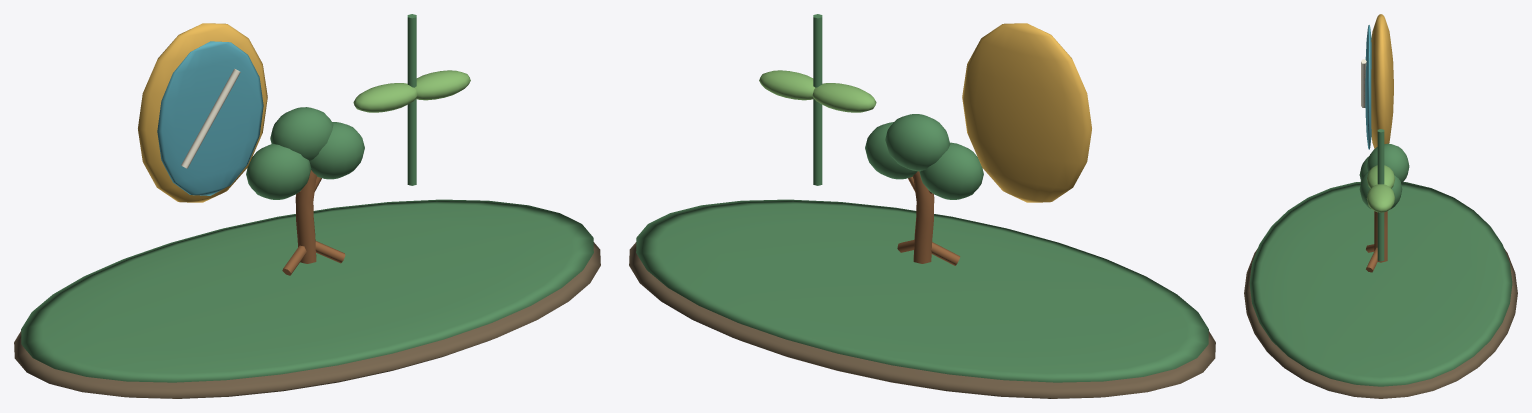
File: complete-second-self-so-nature.glb
3 renders of one model, left to right at view 1: azimuth 30°, elevation 25°; view 2: azimuth 150°, elevation 25°; view 3: azimuth 270°, elevation 25°, orthographic. The views are drawn at different scales.
Visible parts, largest first — view 1: complete-second-self-so-nature_surface_01, complete-second-self-so-nature_surface_03, complete-second-self-so-nature_surface_00, complete-second-self-so-nature_surface_02, complete-second-self-so-nature_surface_05, complete-second-self-so-nature_surface_06, complete-second-self-so-nature_surface_04; view 2: complete-second-self-so-nature_surface_01, complete-second-self-so-nature_surface_02, complete-second-self-so-nature_surface_00, complete-second-self-so-nature_surface_05, complete-second-self-so-nature_surface_06; view 3: complete-second-self-so-nature_surface_01, complete-second-self-so-nature_surface_00, complete-second-self-so-nature_surface_02, complete-second-self-so-nature_surface_05, complete-second-self-so-nature_surface_03, complete-second-self-so-nature_surface_06.
Boxes of the visible parts, left/top/right/bottom form: complete-second-self-so-nature_surface_01: left=21, top=14, right=593, bottom=382; complete-second-self-so-nature_surface_03: left=157, top=41, right=263, bottom=195; complete-second-self-so-nature_surface_00: left=14, top=242, right=600, bottom=398; complete-second-self-so-nature_surface_02: left=138, top=23, right=267, bottom=202; complete-second-self-so-nature_surface_05: left=353, top=70, right=470, bottom=112; complete-second-self-so-nature_surface_06: left=282, top=170, right=345, bottom=275; complete-second-self-so-nature_surface_04: left=181, top=69, right=240, bottom=168; complete-second-self-so-nature_surface_01: left=636, top=14, right=1208, bottom=382; complete-second-self-so-nature_surface_02: left=962, top=23, right=1091, bottom=202; complete-second-self-so-nature_surface_00: left=629, top=242, right=1215, bottom=398; complete-second-self-so-nature_surface_05: left=759, top=70, right=876, bottom=112; complete-second-self-so-nature_surface_06: left=897, top=171, right=960, bottom=265; complete-second-self-so-nature_surface_01: left=1249, top=129, right=1512, bottom=386; complete-second-self-so-nature_surface_00: left=1244, top=248, right=1517, bottom=398; complete-second-self-so-nature_surface_02: left=1371, top=14, right=1393, bottom=148; complete-second-self-so-nature_surface_05: left=1366, top=165, right=1395, bottom=212; complete-second-self-so-nature_surface_03: left=1365, top=25, right=1371, bottom=149; complete-second-self-so-nature_surface_06: left=1366, top=211, right=1387, bottom=272.
Size of the model in its own units: 4.56 by 2.51 by 2.5.
